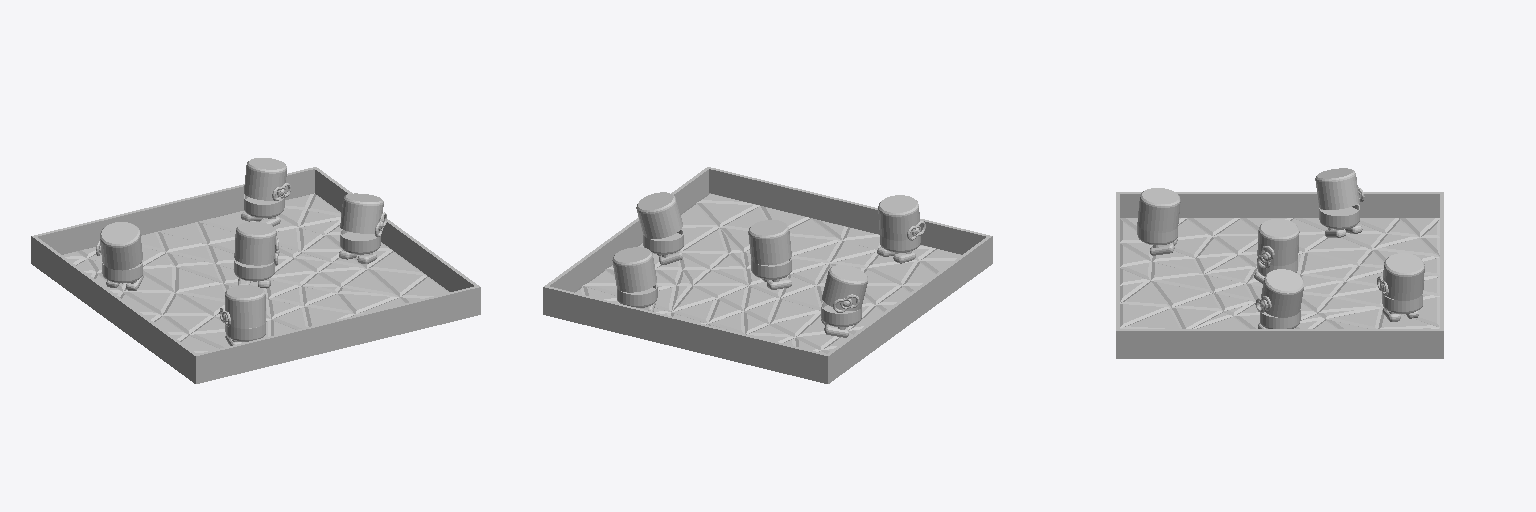
Rendered from Toasters004tri.obj.
The picture shows the model from 3 angles: view 1: azimuth 30°, elevation 25°; view 2: azimuth 150°, elevation 25°; view 3: azimuth 270°, elevation 25°; orthographic projection.
Parts seen in each view (by area): view 1: Box01, Head02, Head, Head04, Head03, Head01, Jaw01, Jaw03, Jaw, Jaw02; view 2: Box01, Head01, Head, Head03, Head04, Head02, Jaw02, Jaw01, Jaw03, Jaw; view 3: Box01, Head03, Head04, Head01, Head02, Head, Jaw02, Jaw03.
Part boxes in pixels (x1,y1,x2,y2): Box01: (31,167,480,383); Head02: (100,222,142,270); Head: (234,222,276,265); Head04: (225,285,265,328); Head03: (244,158,286,200); Head01: (340,193,383,233); Jaw01: (340,229,380,254); Jaw03: (244,194,284,217); Jaw: (234,258,274,281); Jaw02: (102,260,142,283); Box01: (543,167,992,383); Head01: (636,192,682,238); Head: (748,220,791,265); Head03: (612,247,656,292); Head04: (878,195,919,240); Head02: (822,265,867,310); Jaw02: (821,301,861,326); Jaw01: (643,229,683,254); Jaw03: (617,283,657,307); Jaw: (751,257,791,279); Box01: (1116,192,1443,358); Head03: (1383,253,1424,300); Head04: (1137,188,1180,232); Head01: (1261,269,1303,317); Head02: (1315,168,1359,209); Head: (1257,219,1299,265); Jaw02: (1319,204,1359,229); Jaw03: (1382,293,1422,313).
Size of the model in its own units: 0.8 by 0.1798 by 0.8.